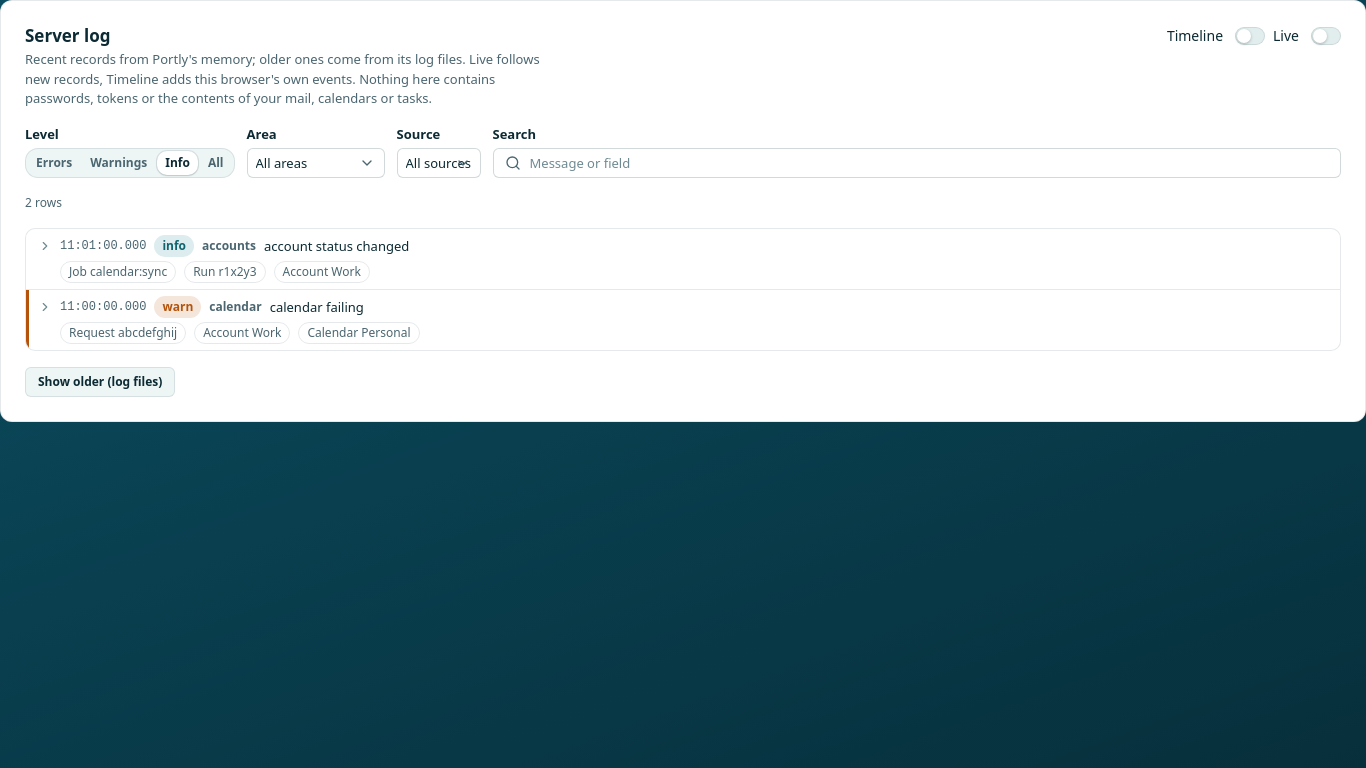
it: ServerLogPanel › Live says when a poll skipped records (more than a page arrived at once)
expect the text "account status changed" is shown: met, box [264, 236, 409, 254]
Click the 2nd switch named "Live" at (1326, 36), box [1311, 26, 1341, 44]
Wait 2000 ms
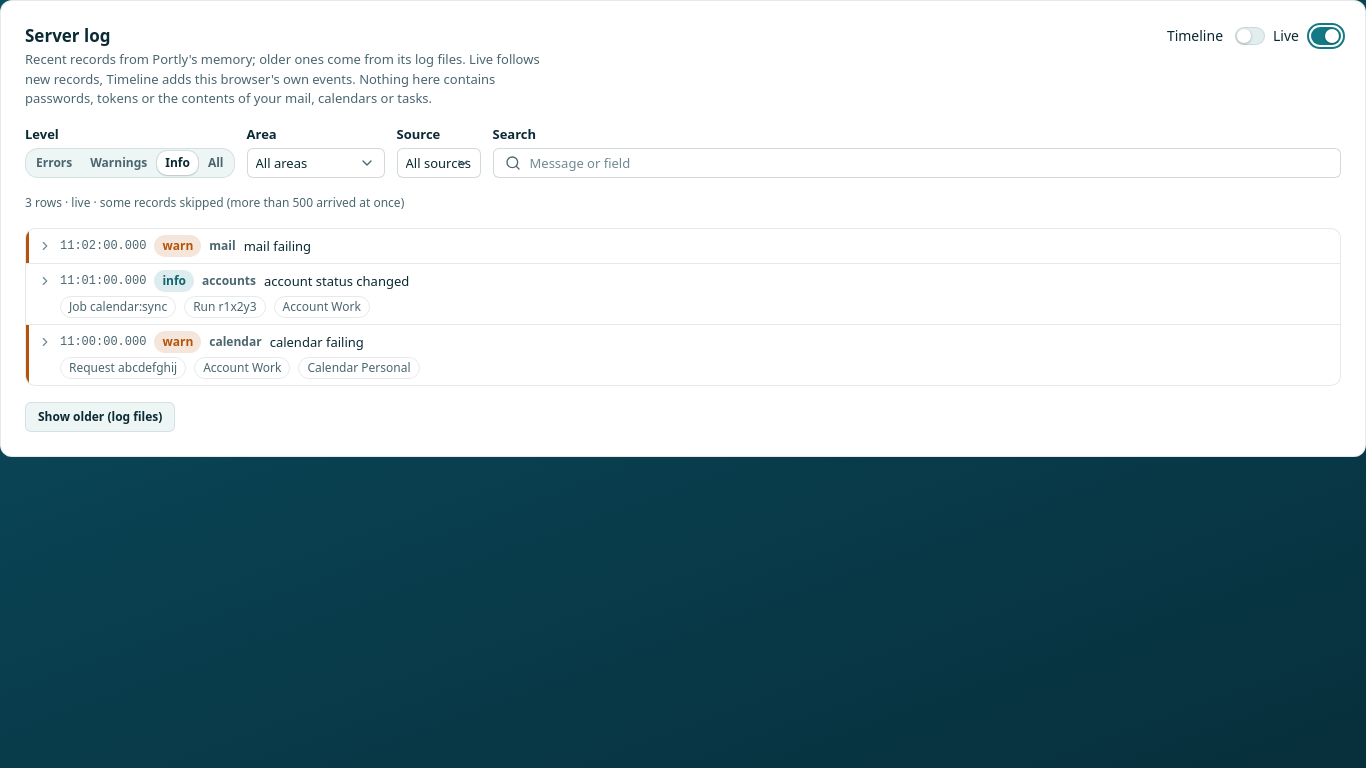
expect the text "mail failing" is shown: met, box [244, 236, 311, 254]
expect the text "3 rows · live · some records skipped (more than 500 arrived at once)" is shown: met, box [25, 194, 404, 211]
